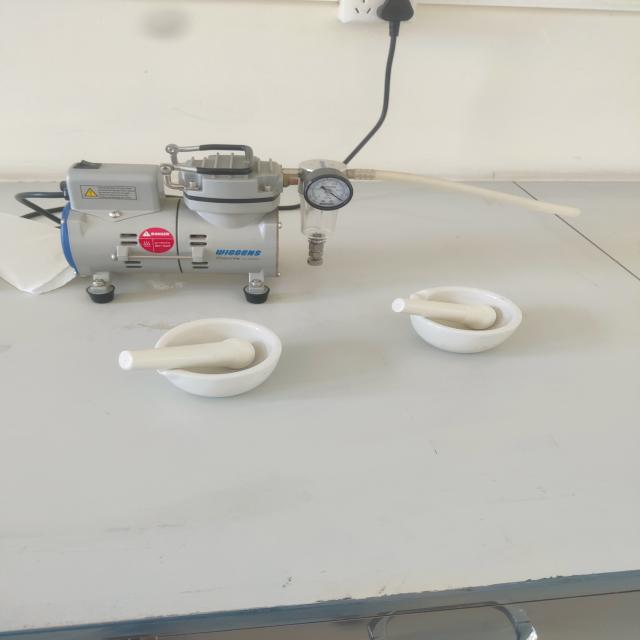Porcelain_Mortar Pestle: (92, 291, 325, 426), (363, 268, 543, 370)
